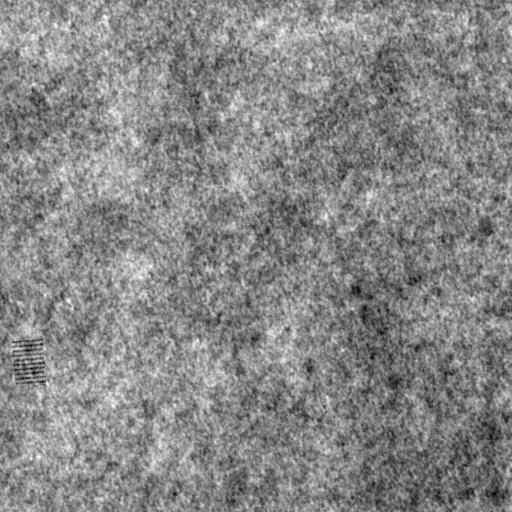DefectTypeB: (11, 338, 49, 388)
